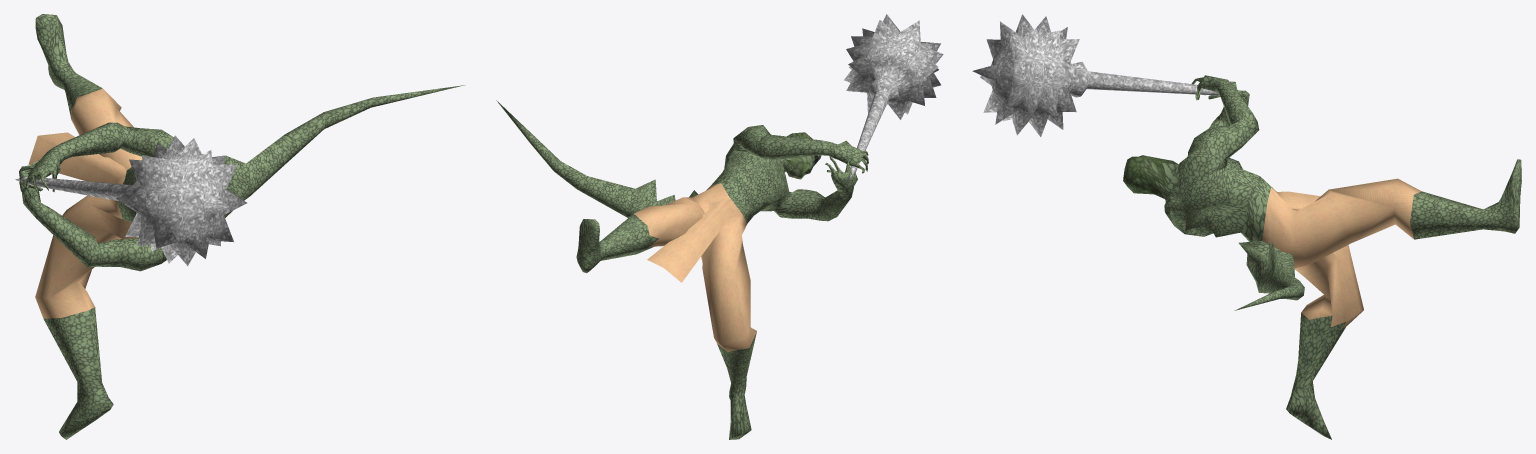
File: makardhwaja_000247.obj
3 views of the same model, side by side, from view 1: azimuth 30°, elevation 25°; view 2: azimuth 150°, elevation 25°; view 3: azimuth 270°, elevation 25° (orthographic). The views are drawn at different scales.
Parts seen in each view (by area): view 1: hanuman_Cube.000, mace_Cube.008; view 2: hanuman_Cube.000, mace_Cube.008; view 3: hanuman_Cube.000, mace_Cube.008.
Boxes of the visible parts, box(x1,y1,x2,y2) form: hanuman_Cube.000: box(19, 14, 465, 439); mace_Cube.008: box(15, 135, 246, 265); hanuman_Cube.000: box(496, 100, 868, 439); mace_Cube.008: box(844, 14, 943, 180); hanuman_Cube.000: box(1123, 75, 1521, 439); mace_Cube.008: box(972, 14, 1219, 136).
Size of the model in its own units: 3.79 by 3.35 by 4.2.
